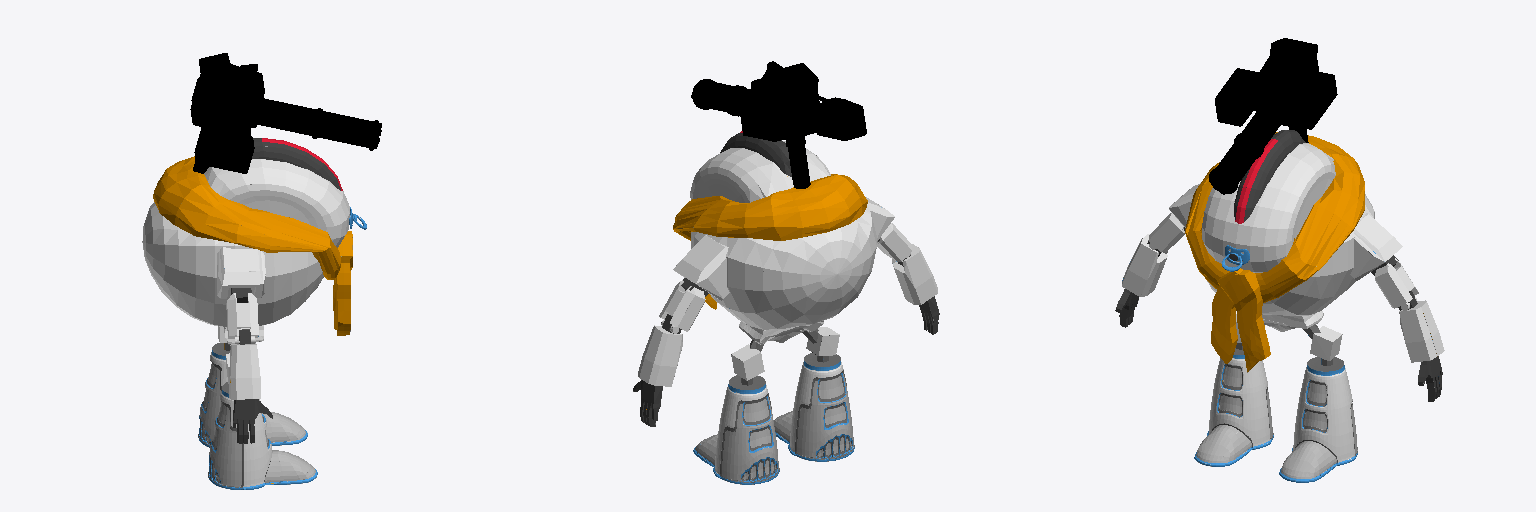
3 renders of one model, left to right at view 1: azimuth 30°, elevation 25°; view 2: azimuth 150°, elevation 25°; view 3: azimuth 270°, elevation 25°, orthographic.
Parts seen in each view (by area): view 1: ult3:Cylinder011 ult3:polySurface1; view 2: ult3:Cylinder011 ult3:polySurface1; view 3: ult3:Cylinder011 ult3:polySurface1.
Boxes of the visible parts, <box> form: ult3:Cylinder011 ult3:polySurface1: <box>142,53,381,489</box>; ult3:Cylinder011 ult3:polySurface1: <box>633,61,939,484</box>; ult3:Cylinder011 ult3:polySurface1: <box>1115,38,1444,482</box>.
Bounding box in the file's own units: 2.66 × 5.08 × 3.82.
2 materials, 1 textured.